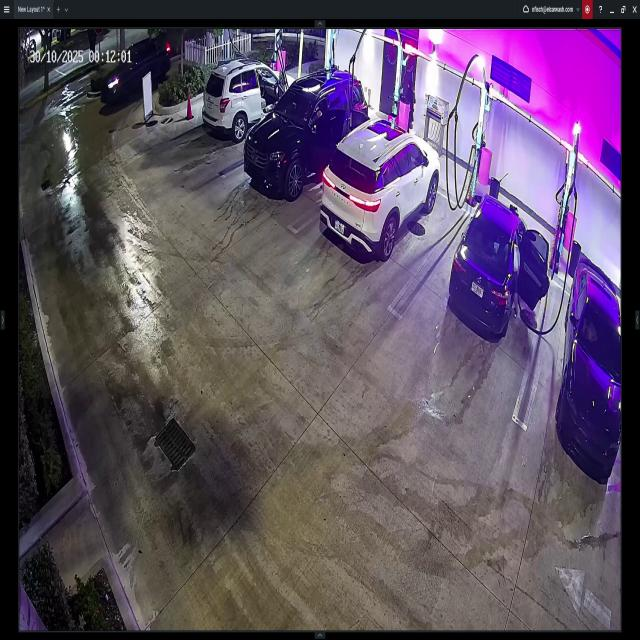Car: (322, 120, 439, 256), (451, 190, 550, 338), (248, 67, 368, 185), (560, 256, 618, 474), (203, 58, 295, 133), (100, 45, 170, 106)
